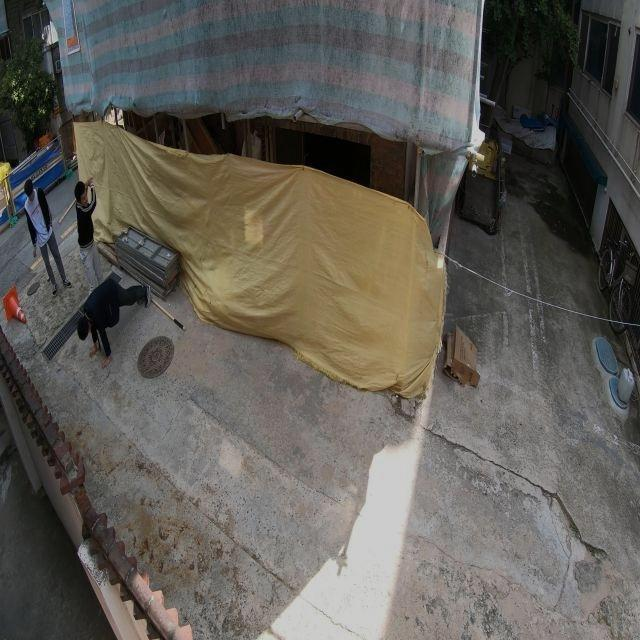fight: (68, 176, 145, 360)
non-fight: (23, 176, 67, 296)
